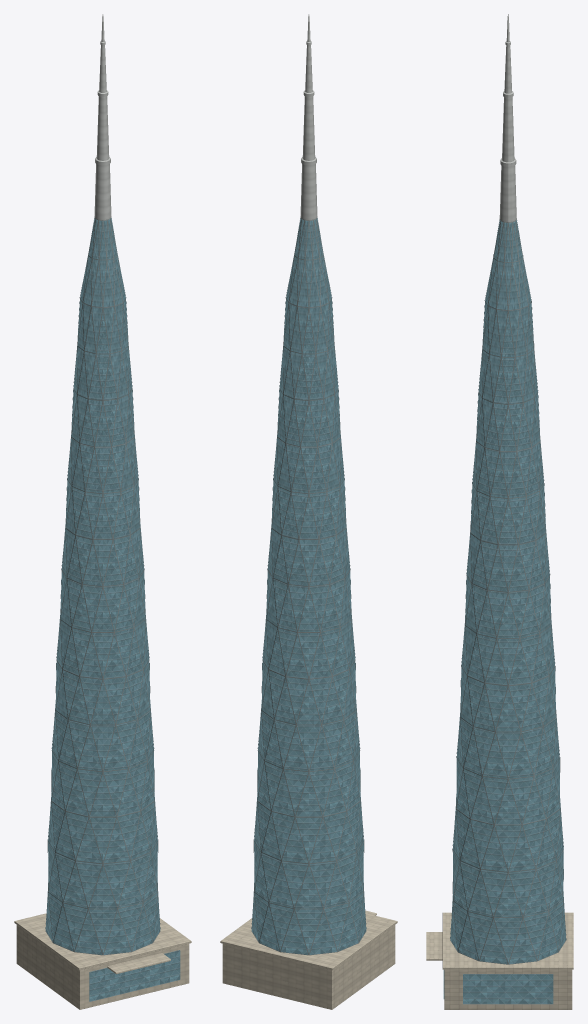
The model's file is LM_ENV_Merdeka118.glb.
3 renders of one model, left to right at view 1: azimuth 30°, elevation 25°; view 2: azimuth 150°, elevation 25°; view 3: azimuth 270°, elevation 25°, orthographic.
Visible parts, largest first — view 1: Merdeka118; view 2: Merdeka118; view 3: Merdeka118.
Part boxes in pixels (x1,y1,x2,y2): Merdeka118: [14, 14, 191, 1009]; Merdeka118: [220, 14, 397, 1009]; Merdeka118: [426, 14, 573, 1009].
Size of the model in its own units: 17.4 by 142 by 19.6.
4 materials, 4 textured.
